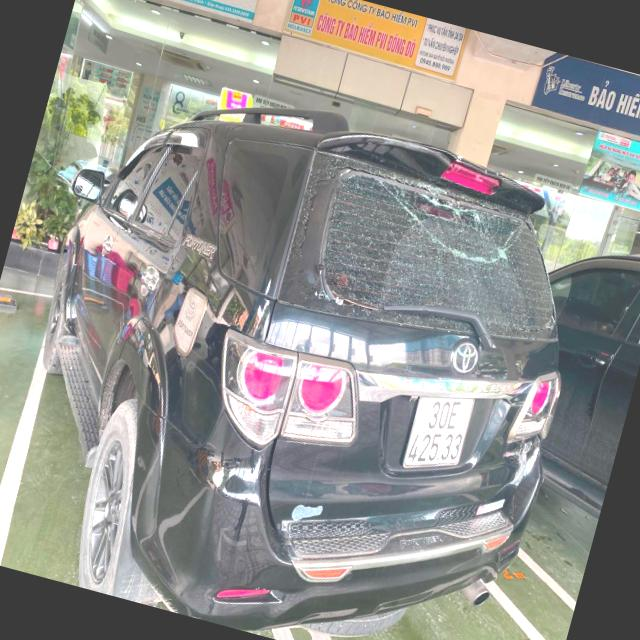Cabossage: (172, 425, 288, 583)
Fissure: (301, 166, 579, 344)
